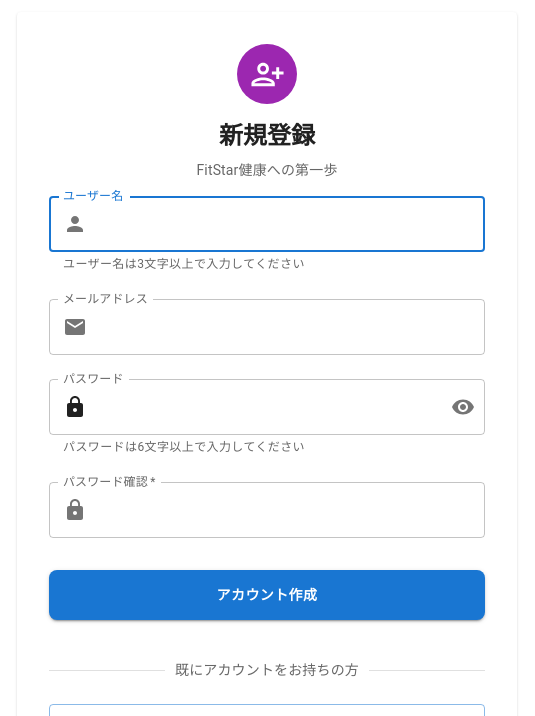
Test case: Register Component › 🚨 500エラー：サーバーエラー
Type "testuser" into the field labelled "ユーザー名".
click(290, 224); type("testuser")  # box top-left (95, 196), bottom-right (485, 252)
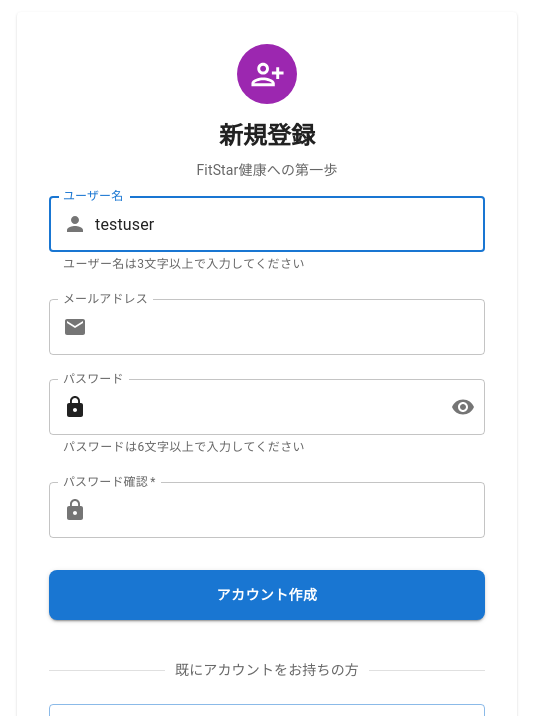
Type "test@example.com" into the field labelled "メールアドレス".
click(290, 327); type("test@example.com")  # box top-left (95, 299), bottom-right (485, 355)
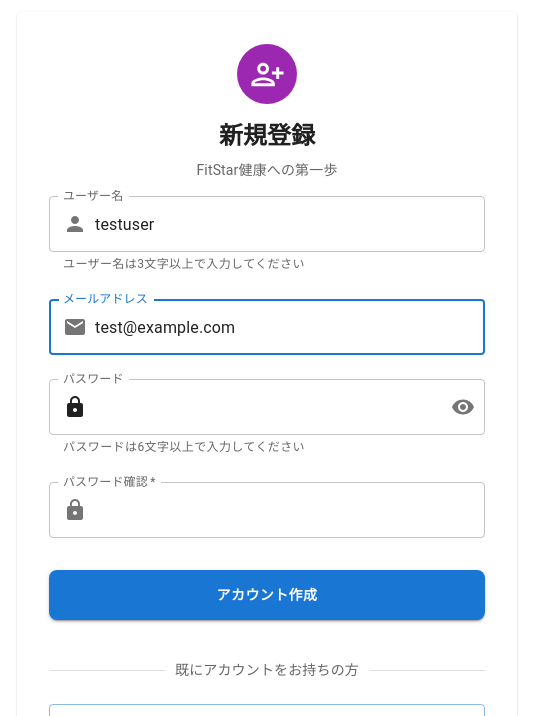
Type "password123" into the password field labelled "パスワード".
click(269, 407); type("password123")  # box top-left (95, 379), bottom-right (443, 435)
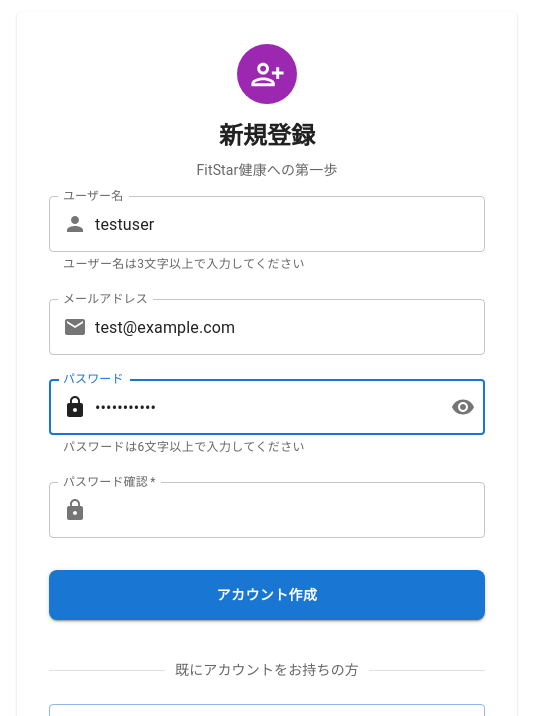
Type "password123" into the password field labelled "パスワード確認 *".
click(290, 510); type("password123")  # box top-left (95, 482), bottom-right (485, 538)
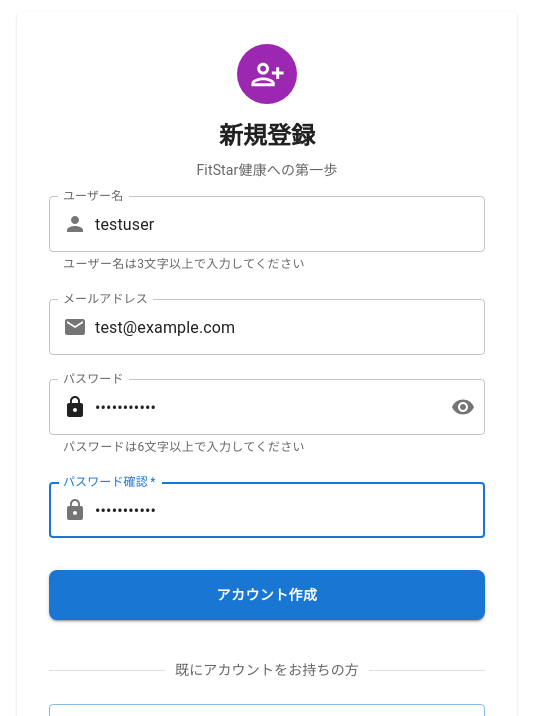
Click the button "アカウント作成".
click(267, 595)  # box top-left (49, 570), bottom-right (485, 620)
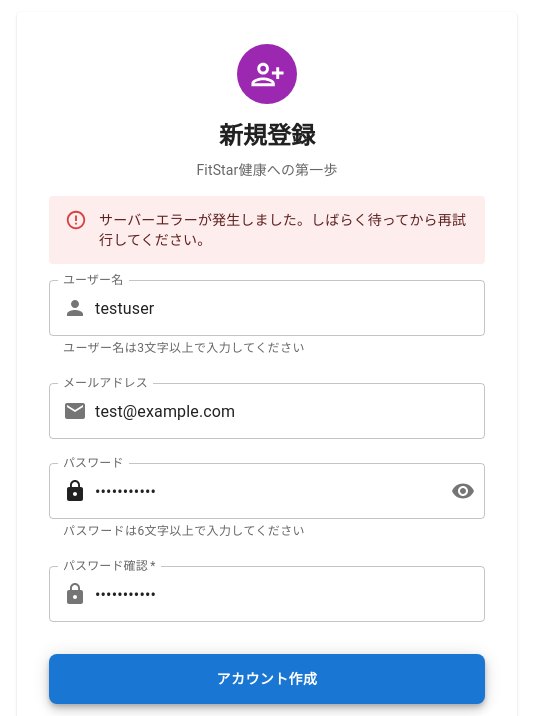
Now the message "サーバーエラーが発生しました。しばらく待ってから再試行してください。" is shown, box top-left (49, 196), bottom-right (485, 264)
Now the text "サーバーエラーが発生しました。しばらく待ってから再試行してください。" is shown, box top-left (99, 202), bottom-right (469, 258)
